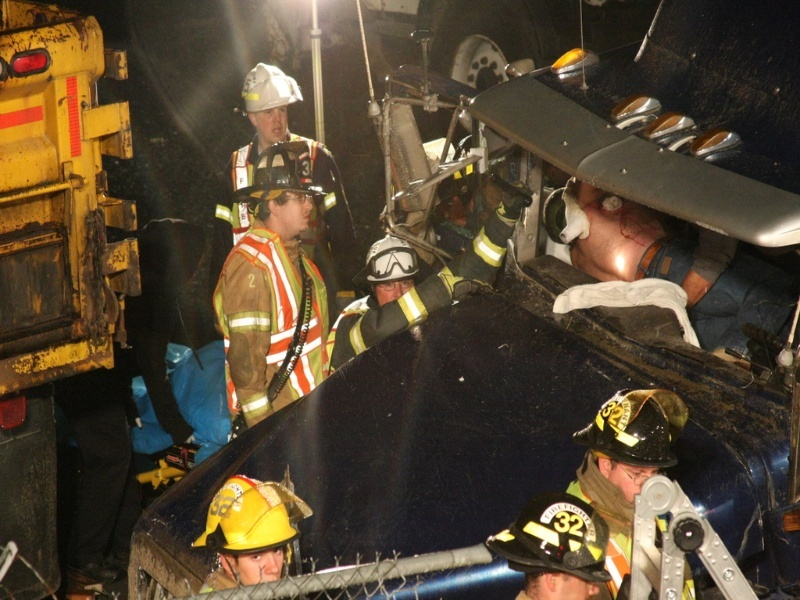Baret: (242, 57, 308, 106), (361, 241, 426, 282)
Gozluk: (367, 251, 426, 273)
